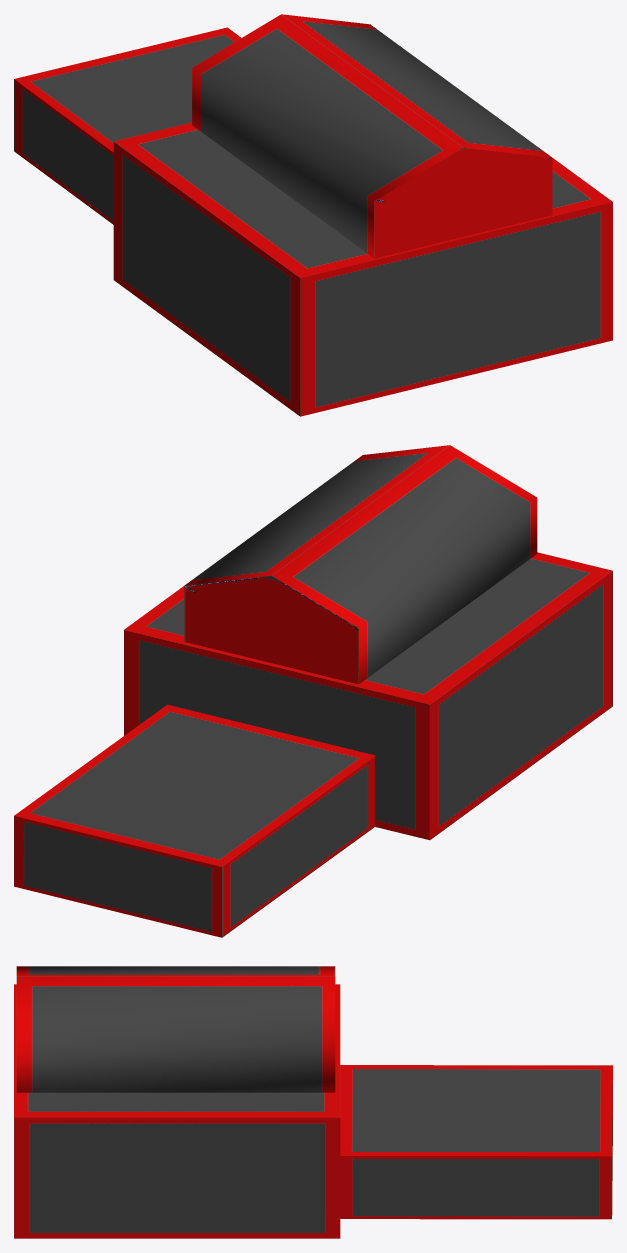
The model's file is alientank.obj.
The picture shows the model from 3 angles, top to bottom: view 1: azimuth 30°, elevation 25°; view 2: azimuth 150°, elevation 25°; view 3: azimuth 270°, elevation 25°; orthographic projection. The views are drawn at different scales.
Visible parts, largest first — view 1: mainback, tophalftopright, mainright, maintop, topback, fronttop, tophalftopleft, frontleft; view 2: fronttop, tophalftopright, mainright, mainfront, maintop, frontfront, topfront, frontleft, tophalftopleft; view 3: mainleft, tophalftopleft, fronttop, frontright, maintop, tophalftopright.
Boxes of the visible parts, x1,y1,x2,y2 form: mainback: [300, 202, 612, 416]; tophalftopright: [192, 14, 463, 257]; mainright: [113, 142, 300, 416]; maintop: [114, 122, 612, 277]; topback: [374, 147, 552, 258]; fronttop: [14, 27, 241, 152]; tophalftopleft: [282, 14, 551, 157]; frontleft: [14, 79, 113, 224]; fronttop: [14, 704, 375, 866]; tophalftopright: [272, 445, 537, 683]; mainright: [430, 571, 612, 839]; mainfront: [124, 630, 429, 840]; maintop: [124, 552, 612, 704]; frontfront: [14, 816, 221, 937]; topfront: [184, 576, 358, 684]; frontleft: [222, 756, 375, 937]; tophalftopleft: [185, 445, 449, 585]; mainleft: [14, 1117, 340, 1238]; tophalftopleft: [16, 976, 335, 1092]; fronttop: [340, 1065, 612, 1156]; frontright: [340, 1156, 611, 1219]; maintop: [14, 984, 340, 1117]; tophalftopright: [16, 966, 335, 976].
Size of the model in its own units: 49.13 by 34.2 by 93.27.
Materials: 2 (2 with a texture image).
